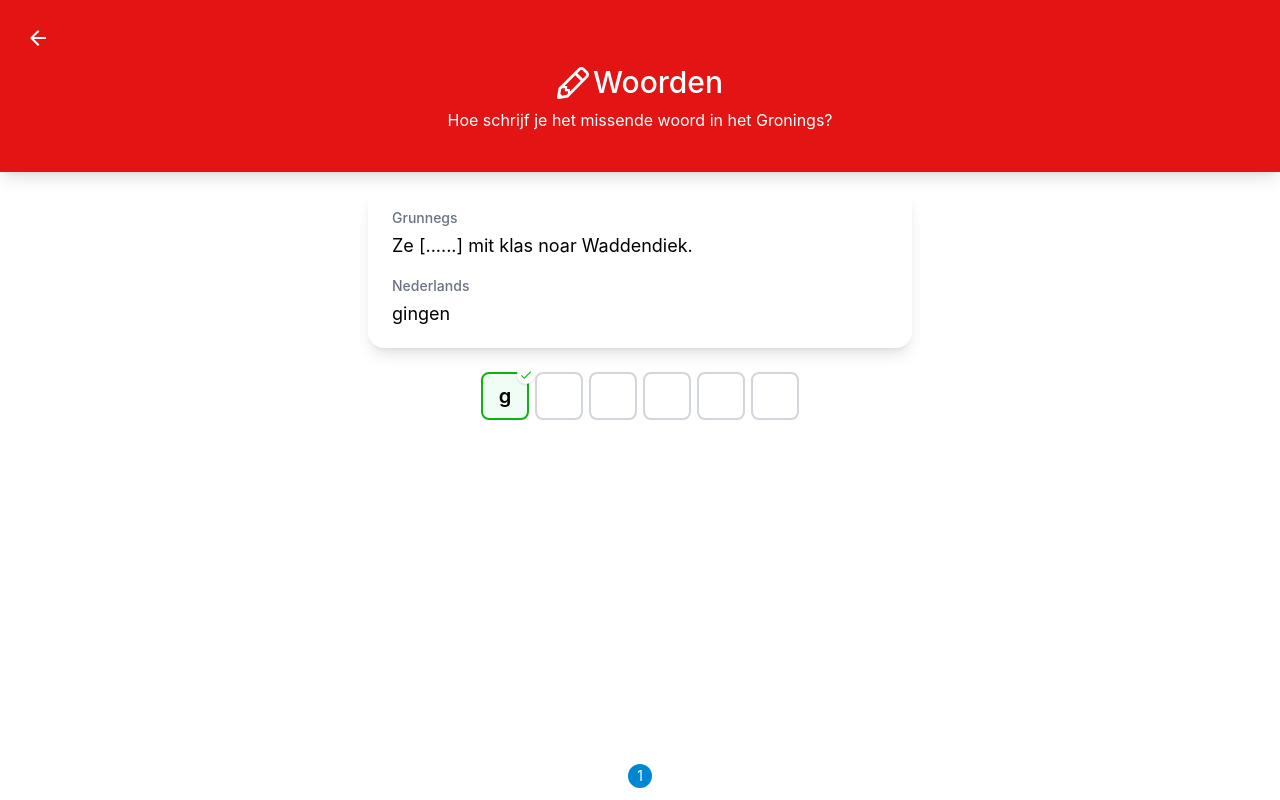
submitting an answer › marks each box correct or wrong and reveals exactly one more locked letter on a wrong submit
Type "a" into the field named "Letter 2 van 6" at x=559, y=396, box [537,374,581,418]
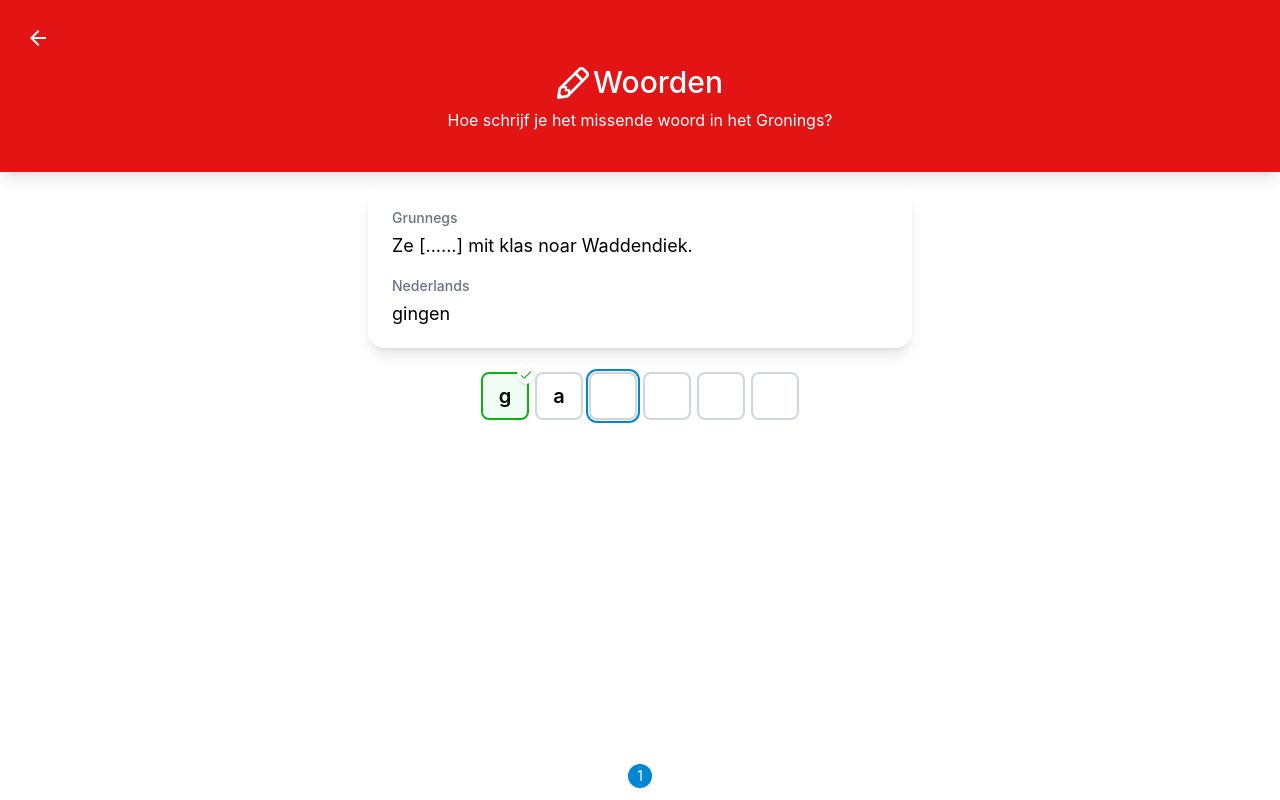
Type "a" into the field named "Letter 3 van 6" at x=613, y=396, box [591,374,635,418]
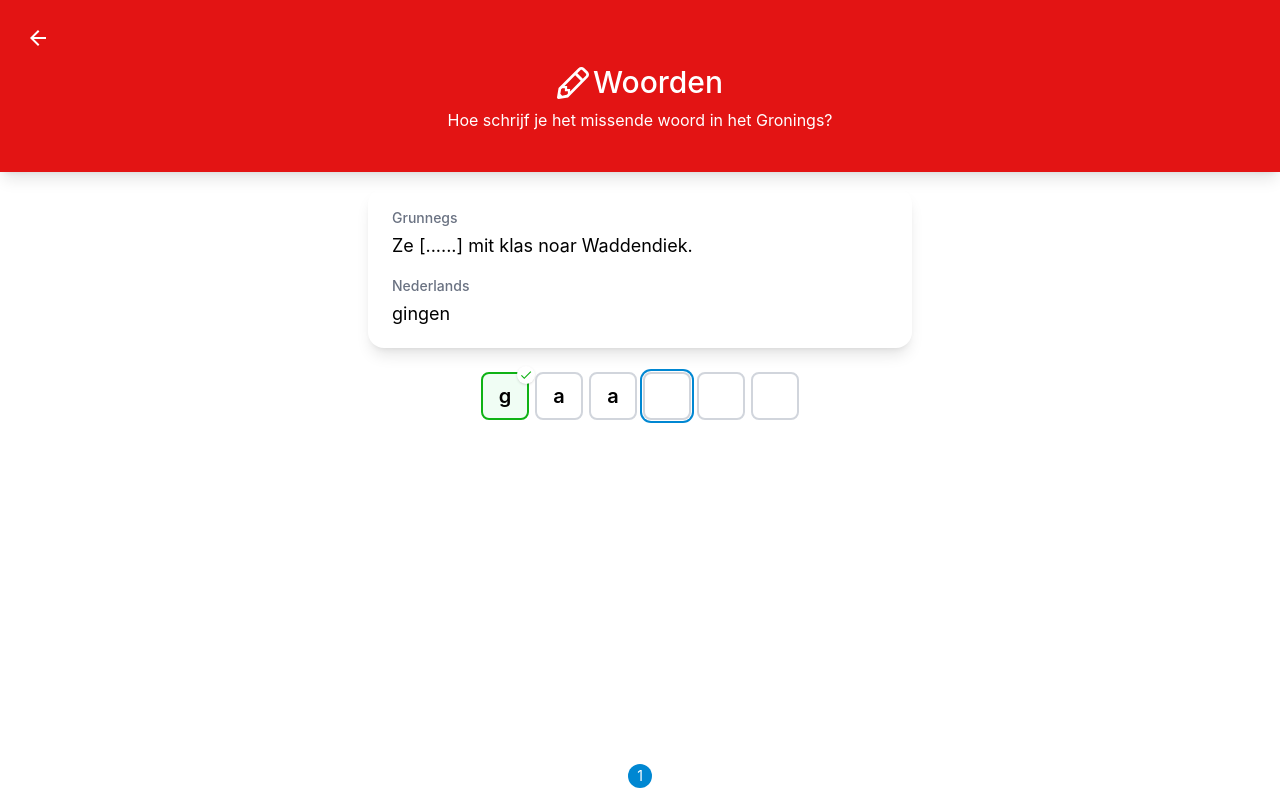
Type "a" into the field named "Letter 4 van 6" at x=667, y=396, box [645,374,689,418]
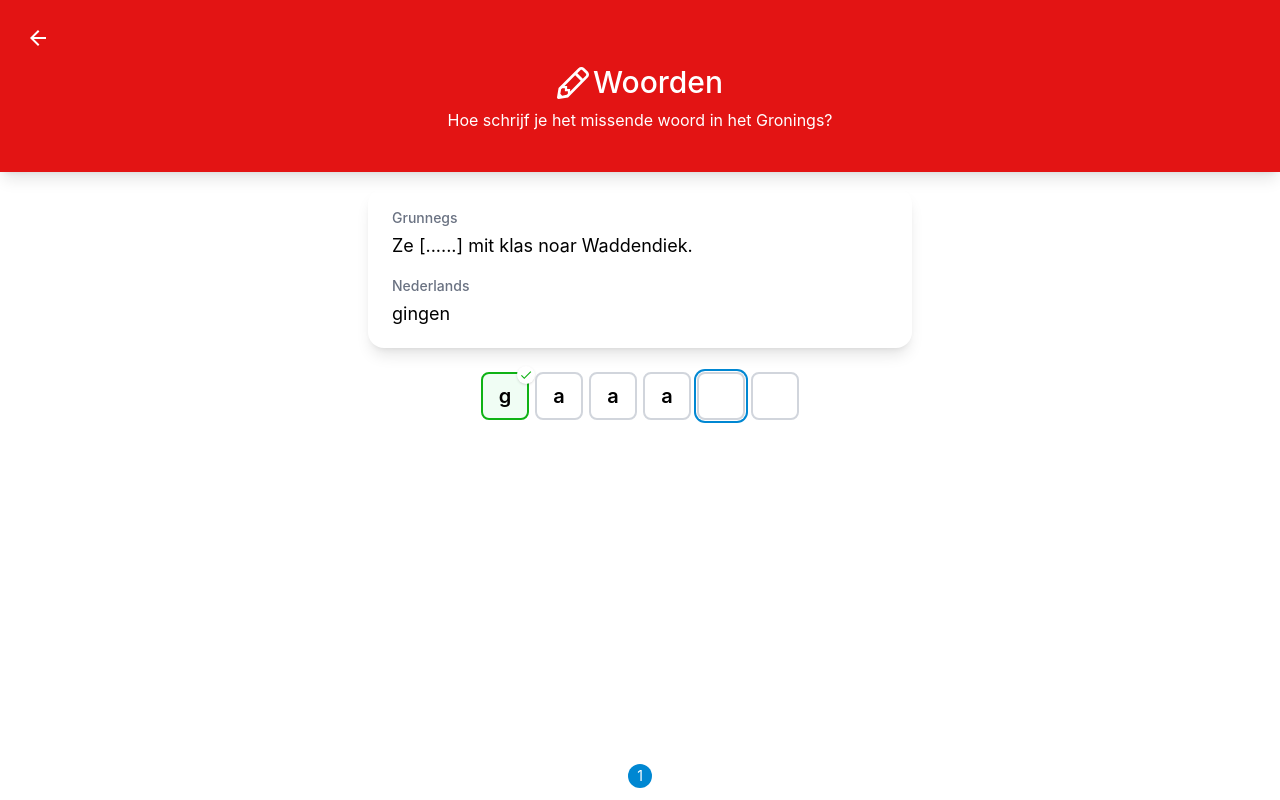
Type "a" into the field named "Letter 5 van 6" at x=721, y=396, box [699,374,743,418]
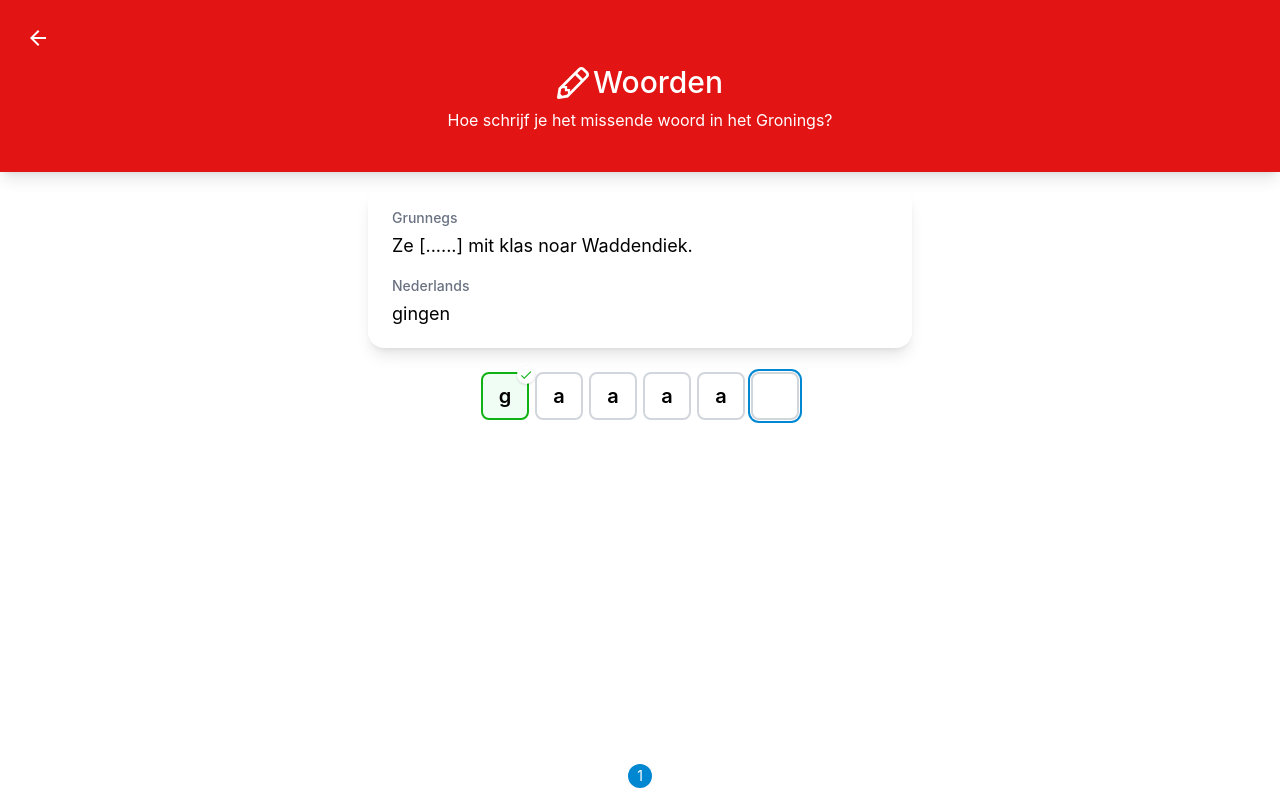
Type "a" into the field named "Letter 6 van 6" at x=775, y=396, box [753,374,797,418]
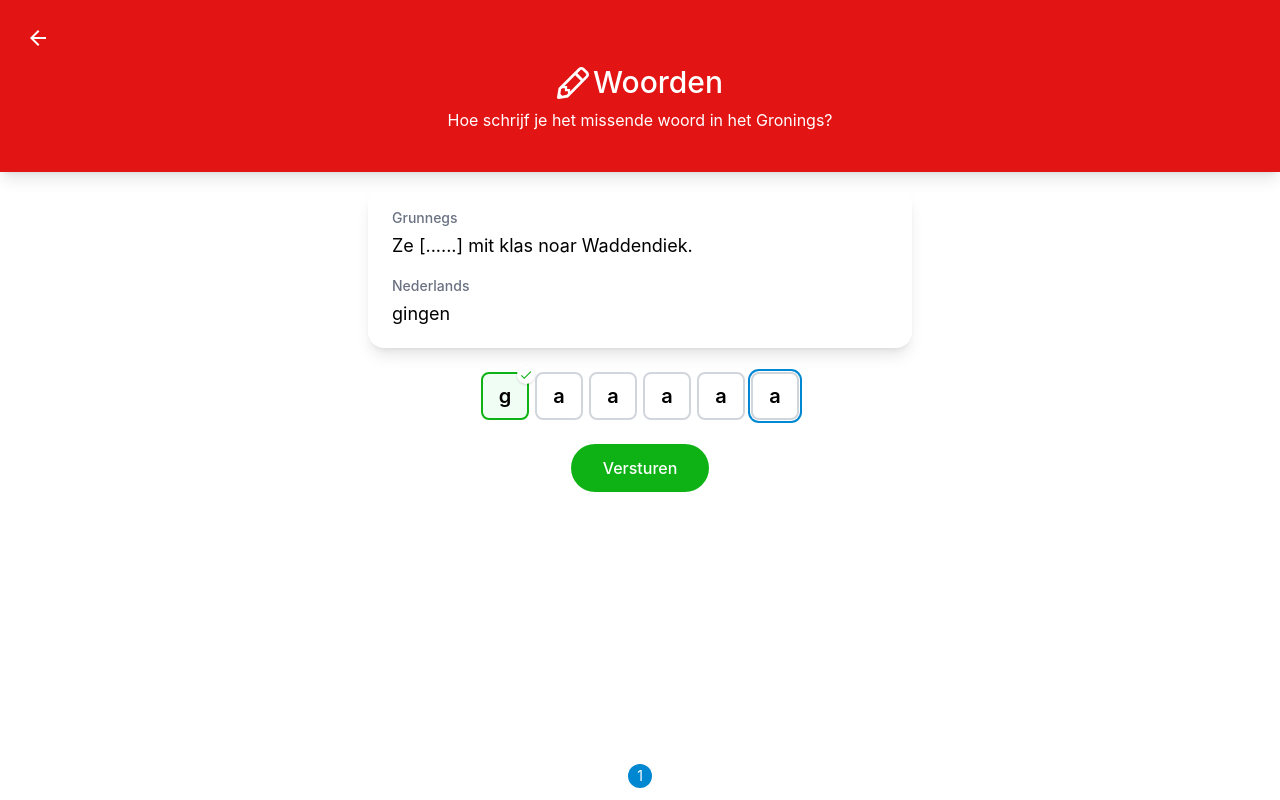
Click the button "Versturen" at x=640, y=468, box [571,444,709,492]
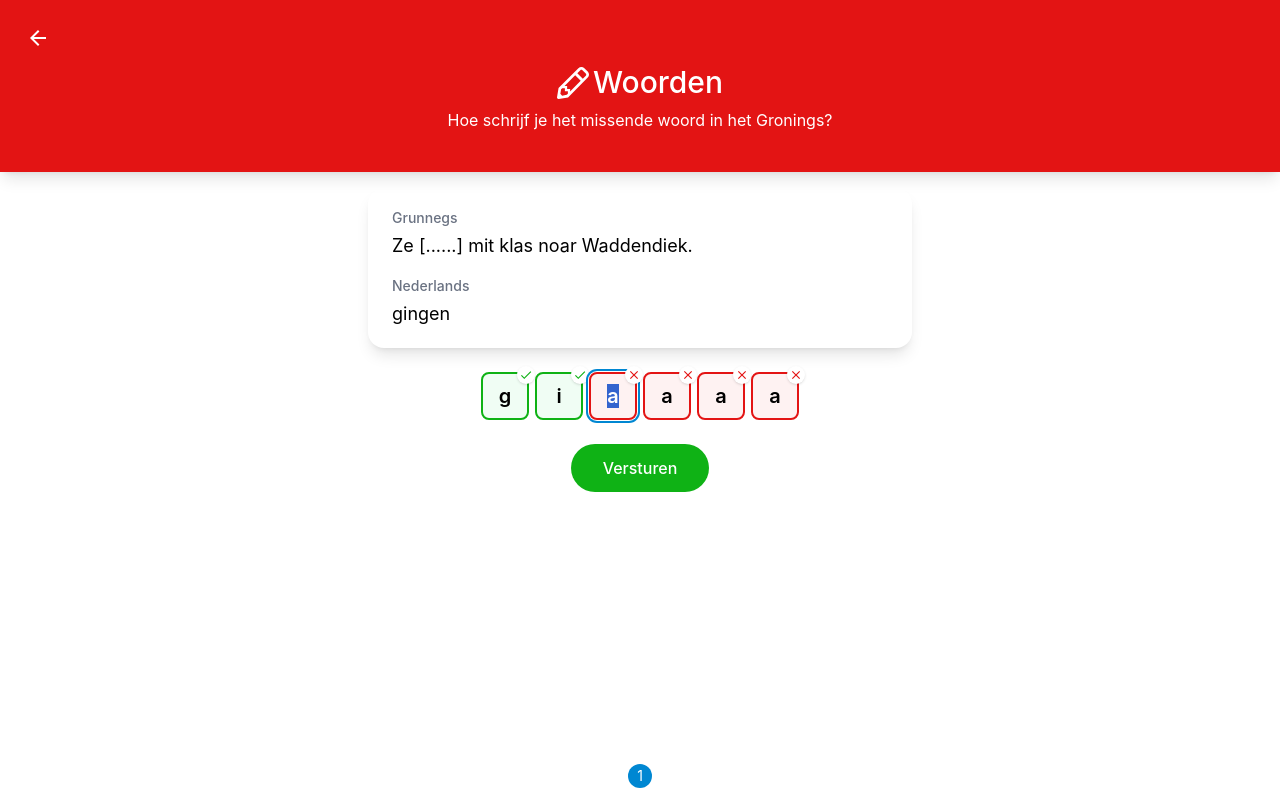
expect the field named "Letter 2 van 6" holds "i": met, box [537,374,581,418]
